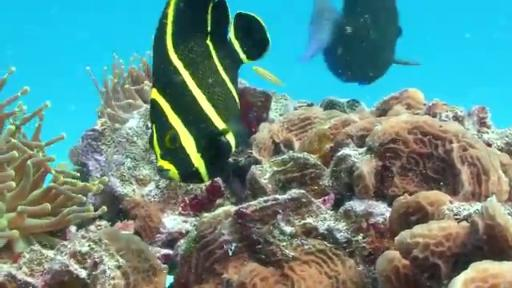Fish: (149, 0, 270, 183), (323, 0, 419, 84)
